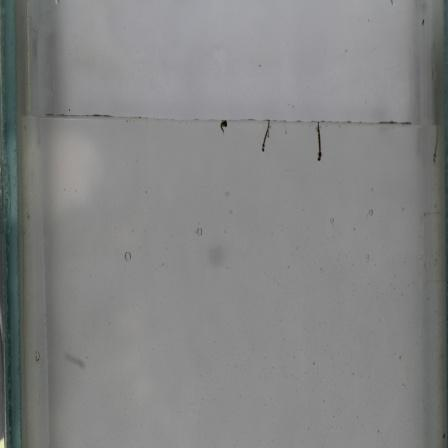Jentik-Nyamuk: (313, 122, 326, 165), (259, 118, 272, 156), (217, 116, 232, 138)
